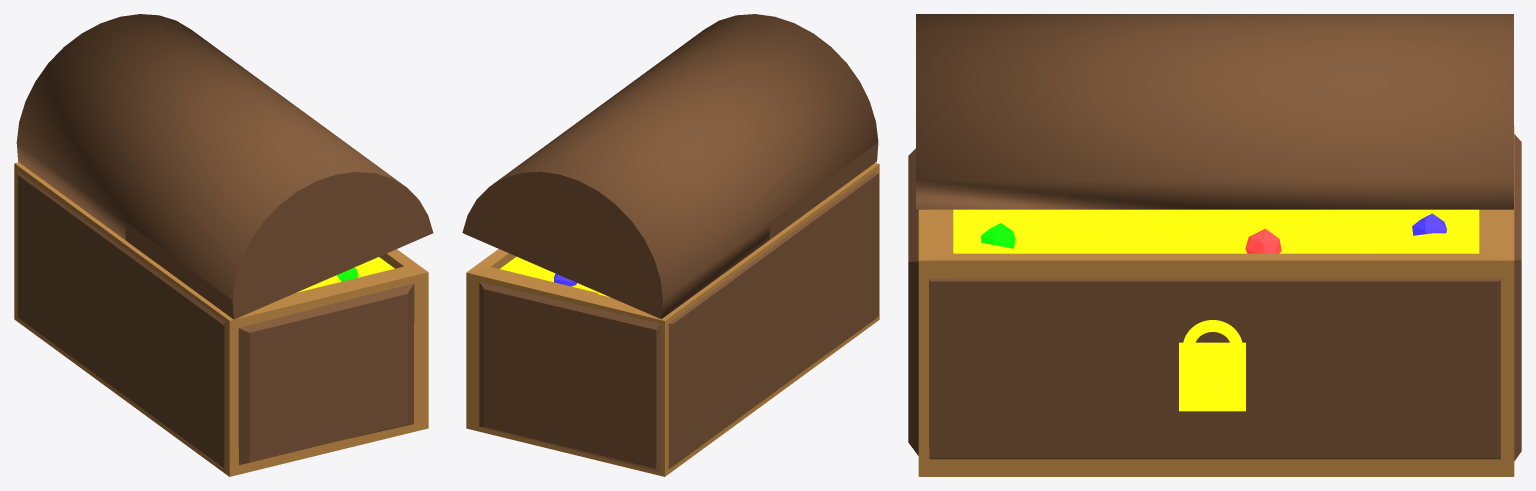
The model's file is super_chest.fbx.
The picture shows the model from 3 angles, left to right: view 1: azimuth 30°, elevation 25°; view 2: azimuth 150°, elevation 25°; view 3: azimuth 270°, elevation 25°; orthographic projection. The views are drawn at different scales.
Visible parts, largest first — view 1: Top, Box.002, Box, Gold; view 2: Top, Box.002, Box, Gold; view 3: Top, Box.002, Box, Gold, Lock, Torus, Icosphere.
Boxes of the visible parts, <box> form: Top: <box>16,14,433,319</box>; Box.002: <box>18,171,414,468</box>; Box: <box>14,162,428,476</box>; Gold: <box>296,257,394,292</box>; Top: <box>462,14,878,318</box>; Box.002: <box>479,172,878,472</box>; Box: <box>466,163,879,476</box>; Gold: <box>500,256,608,296</box>; Top: <box>916,14,1513,209</box>; Box.002: <box>908,134,1521,460</box>; Box: <box>918,126,1514,476</box>; Gold: <box>953,209,1479,253</box>; Lock: <box>1179,342,1245,411</box>; Torus: <box>1182,320,1242,375</box>; Icosphere: <box>1245,228,1281,253</box>.
Bounding box in the file's own units: 104 × 128 × 185.
